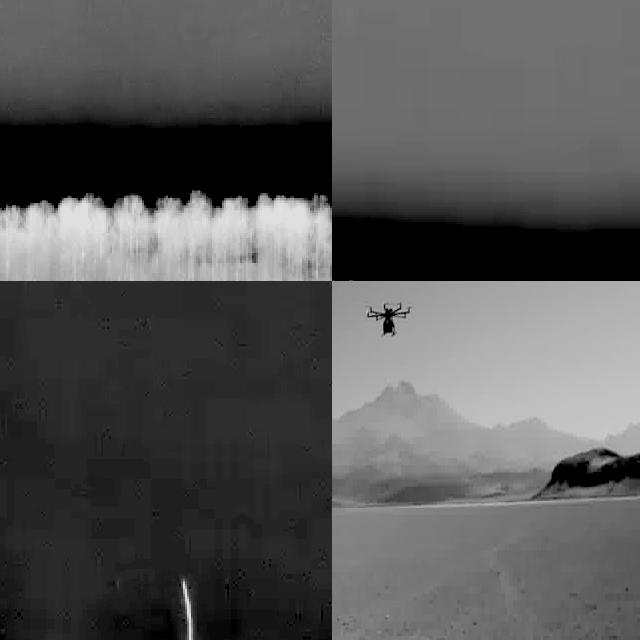0: (105, 568, 133, 602)
drone: (365, 293, 413, 346)
